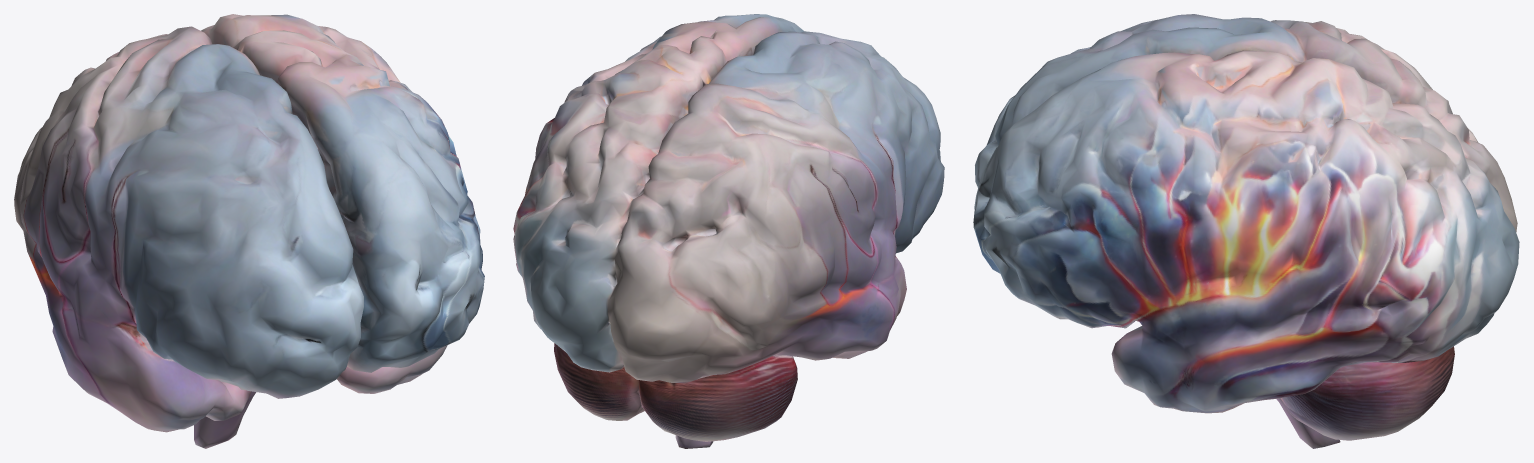
The model's file is Illuminated_1209010312_texture.glb.
3 views of the same model, side by side, from view 1: azimuth 30°, elevation 25°; view 2: azimuth 150°, elevation 25°; view 3: azimuth 270°, elevation 25° (orthographic). The views are drawn at different scales.
Bounding box in the file's own units: 1.5 × 1.63 × 2.01.
Materials: 1 (1 with a texture image).
